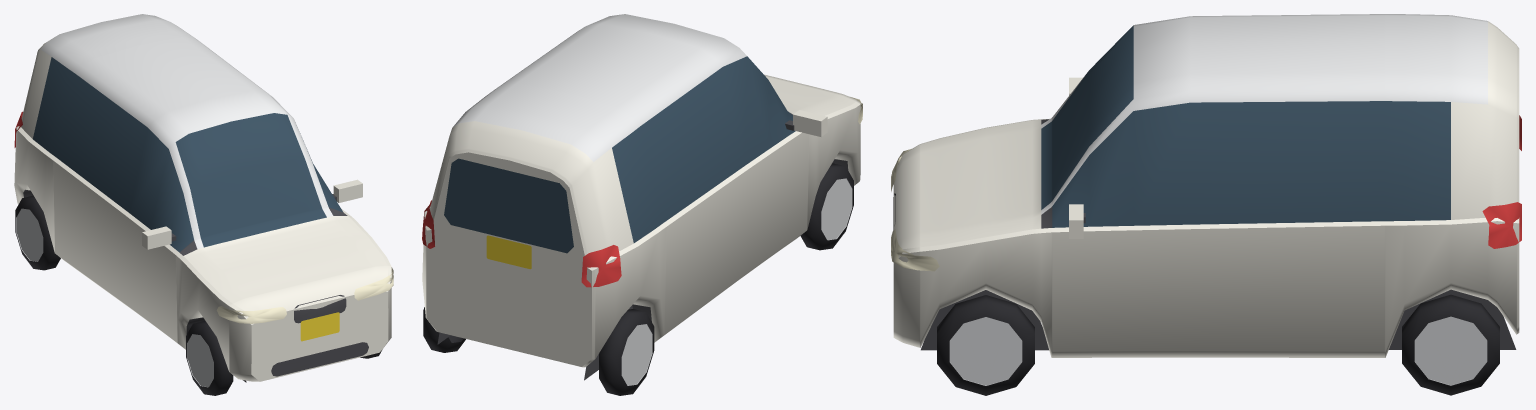
3 views of the same model, side by side, from view 1: azimuth 30°, elevation 25°; view 2: azimuth 150°, elevation 25°; view 3: azimuth 270°, elevation 25° (orthographic). The views are drawn at different scales.
Visible parts, largest first — view 1: 10_3; view 2: 10_3; view 3: 10_3.
Part boxes in pixels (bbox=[...]): 10_3: bbox=[14, 14, 393, 395]; 10_3: bbox=[422, 14, 862, 395]; 10_3: bbox=[891, 14, 1521, 395].
Bounding box in the file's own units: 1.83 × 1.8 × 3.42.
